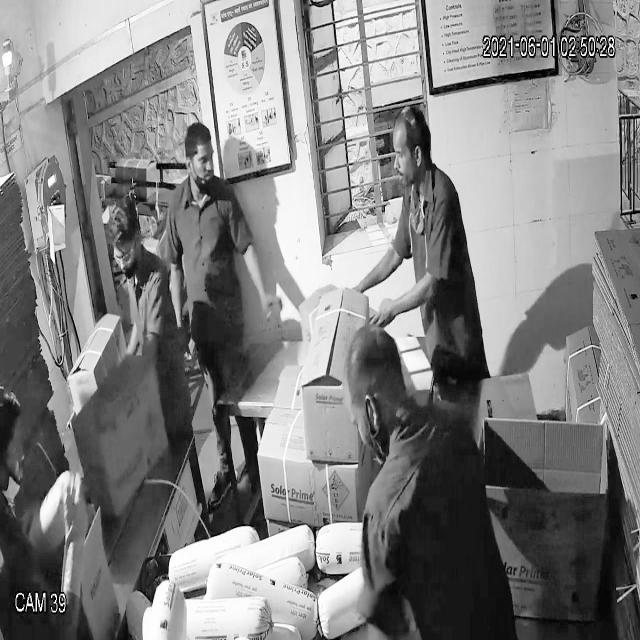glasses: (111, 239, 139, 270)
no-glass: (386, 137, 423, 174), (184, 142, 220, 176)
